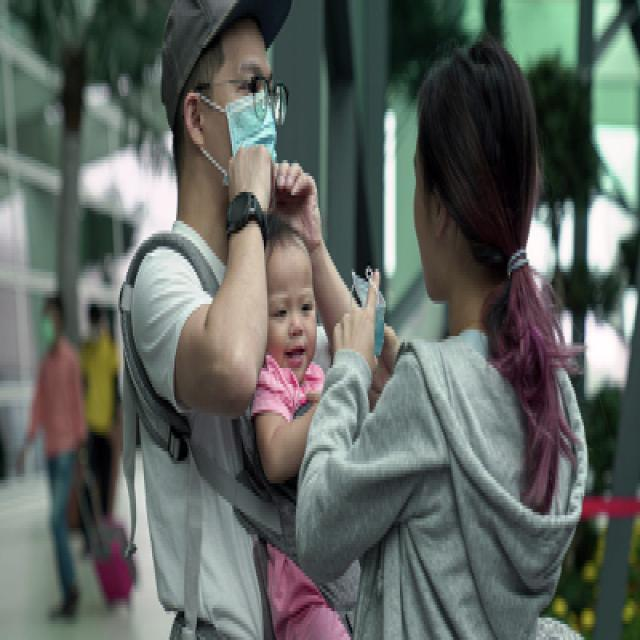mask: (208, 45, 280, 208)
no_mask: (266, 282, 320, 384), (413, 150, 443, 304)
